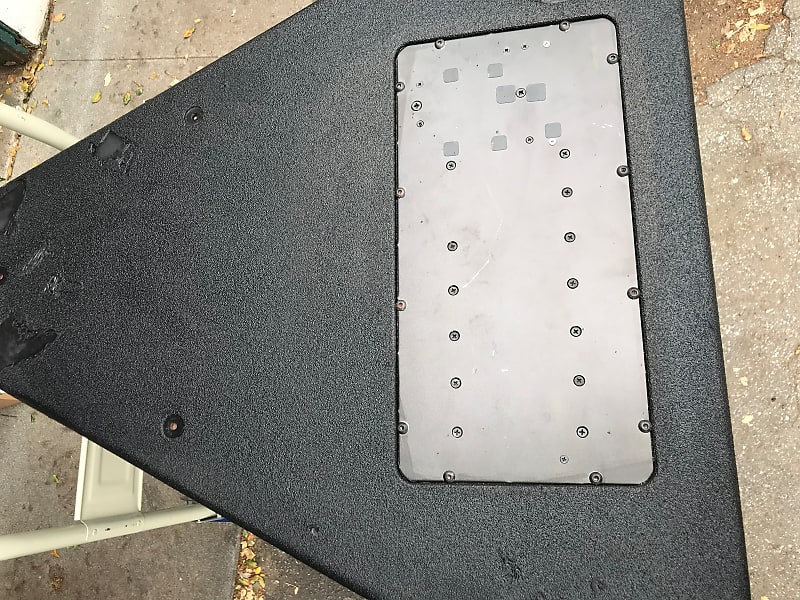rivet: (160, 413, 188, 441), (185, 104, 205, 127), (626, 287, 640, 302), (615, 165, 630, 179), (637, 420, 651, 434), (441, 470, 456, 483), (588, 472, 603, 485), (606, 53, 619, 67), (397, 422, 410, 436), (558, 21, 571, 33), (395, 300, 407, 313), (434, 39, 446, 50), (396, 82, 407, 94), (396, 187, 406, 200)
screw: (576, 424, 590, 439), (450, 426, 464, 441), (447, 285, 461, 299), (572, 375, 586, 388), (569, 326, 583, 339), (566, 277, 580, 290), (410, 99, 423, 113), (564, 232, 577, 245), (446, 240, 459, 253), (449, 377, 462, 390), (561, 187, 574, 199), (559, 148, 571, 160), (445, 161, 457, 173), (449, 331, 461, 343), (516, 88, 528, 99), (559, 454, 570, 465), (525, 135, 535, 146), (548, 137, 558, 147), (415, 81, 424, 90), (521, 43, 530, 52), (416, 120, 425, 129), (543, 40, 551, 50), (503, 47, 511, 55)
